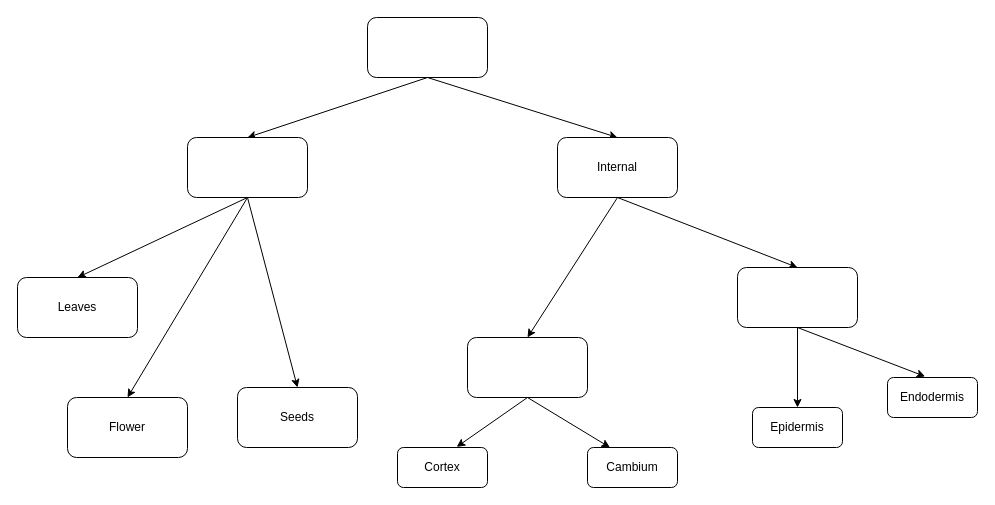
This 995x505 diagram has some shape labels left out. Each missing label, with the box of its shape:
External: (186, 136, 308, 198)
Internal Stem Structure: (466, 336, 588, 398)
Plant: (366, 16, 488, 78)
Roots Structure: (736, 266, 858, 328)
